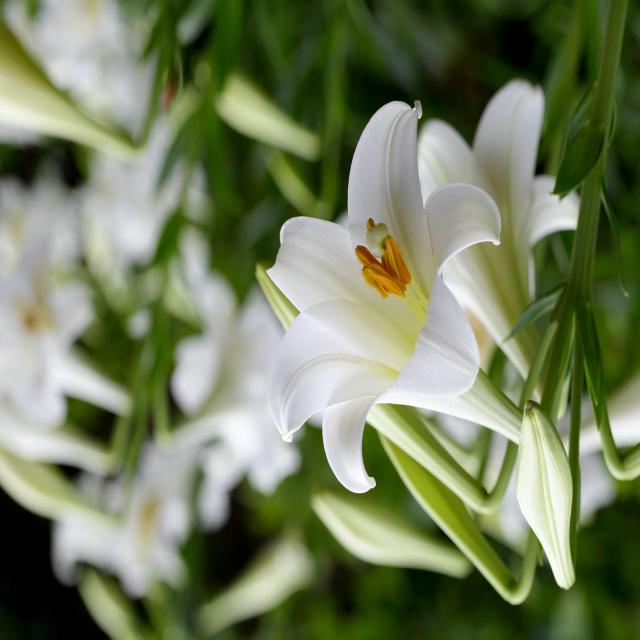lily: (251, 112, 543, 508)
